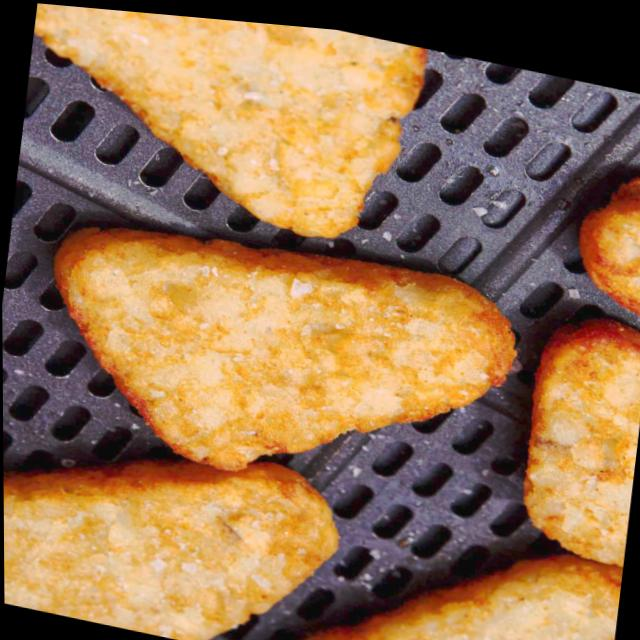Hashbrown: (38, 192, 521, 532), (15, 1, 428, 258), (3, 407, 343, 640), (284, 502, 623, 640), (513, 304, 640, 572), (574, 152, 640, 321)
